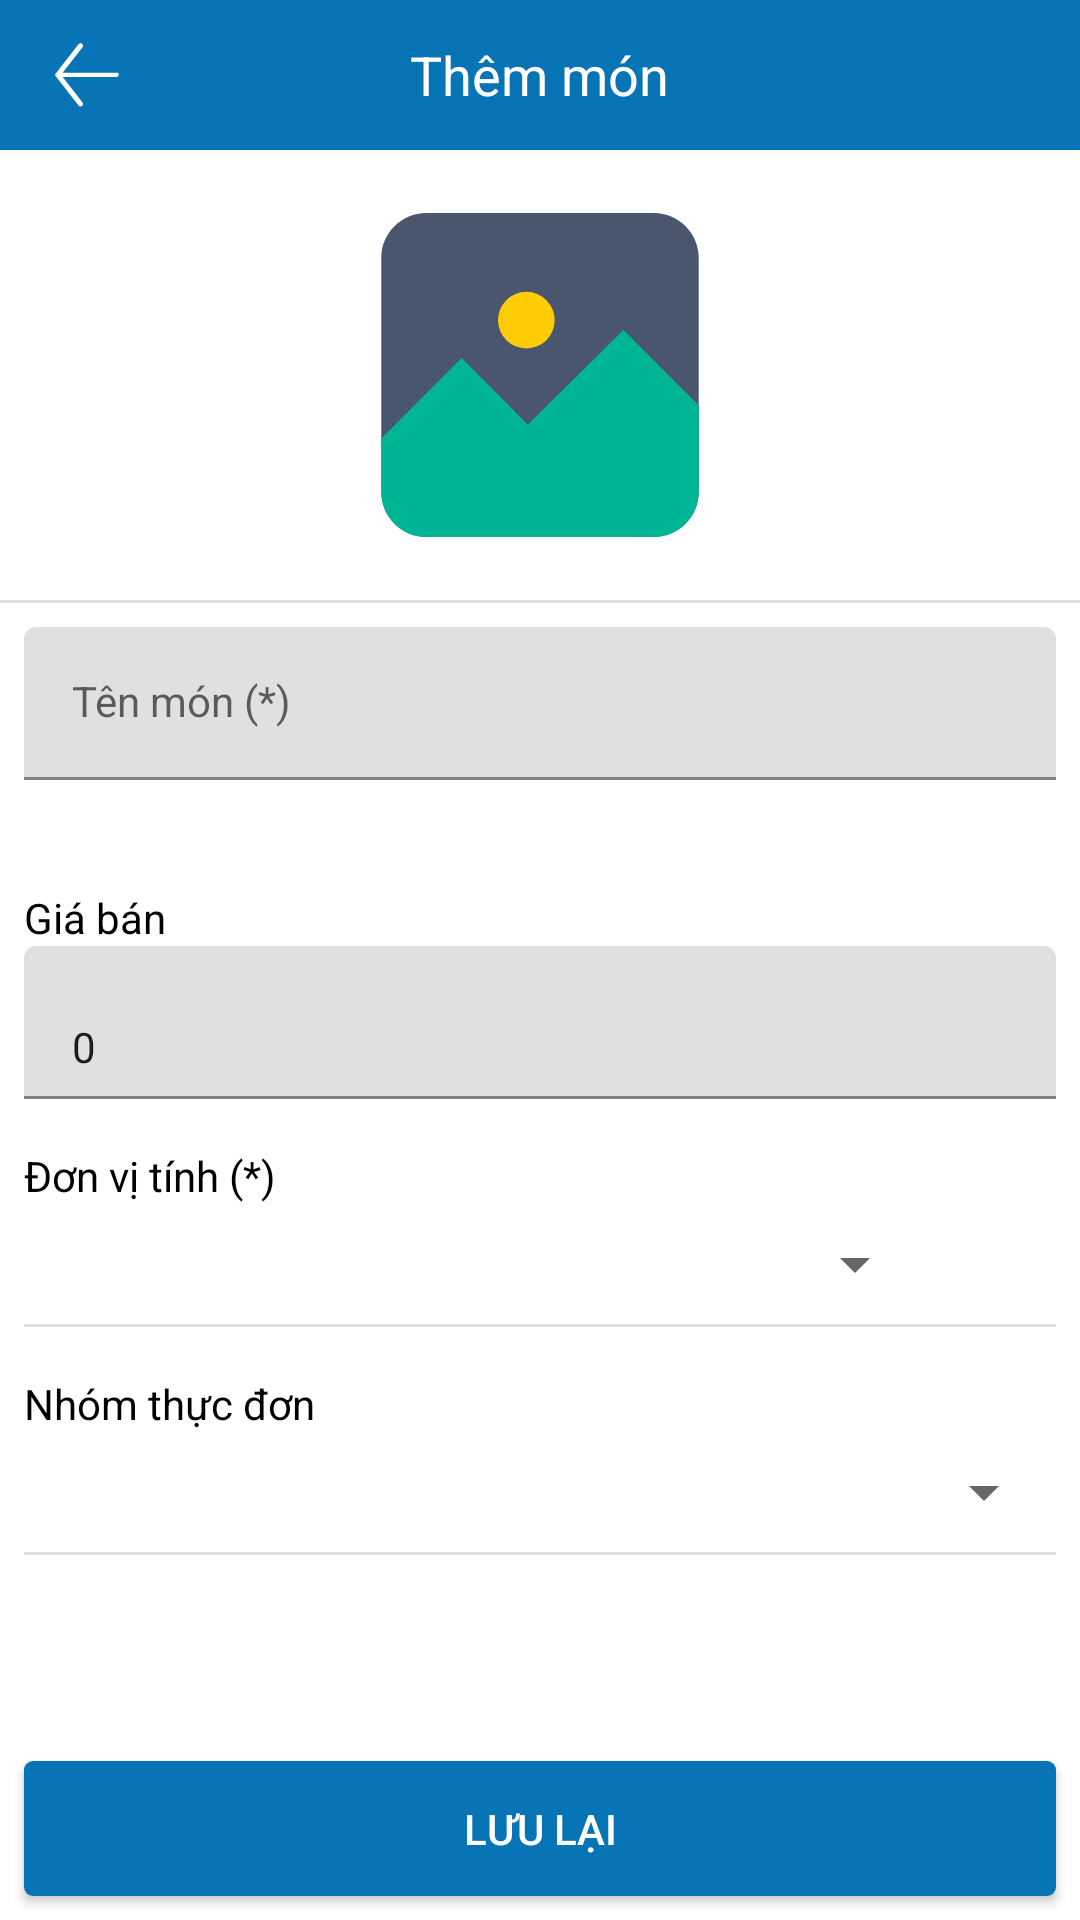

Screen size 1080×1920. Icon name, then its center in pixels as point (x, y):
back: point (87, 75)
picture holder: point (540, 375)
